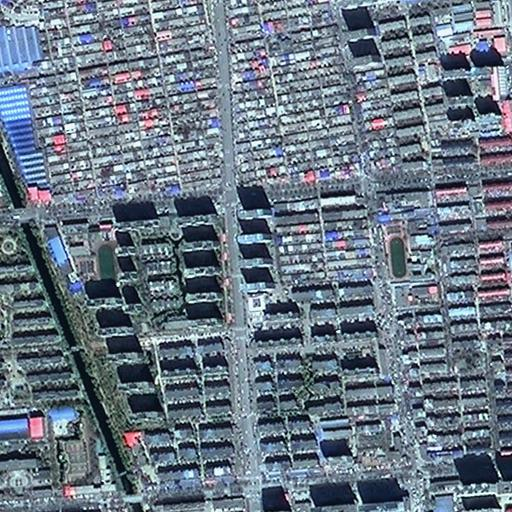school: (61, 215, 118, 285), (383, 221, 439, 283)
